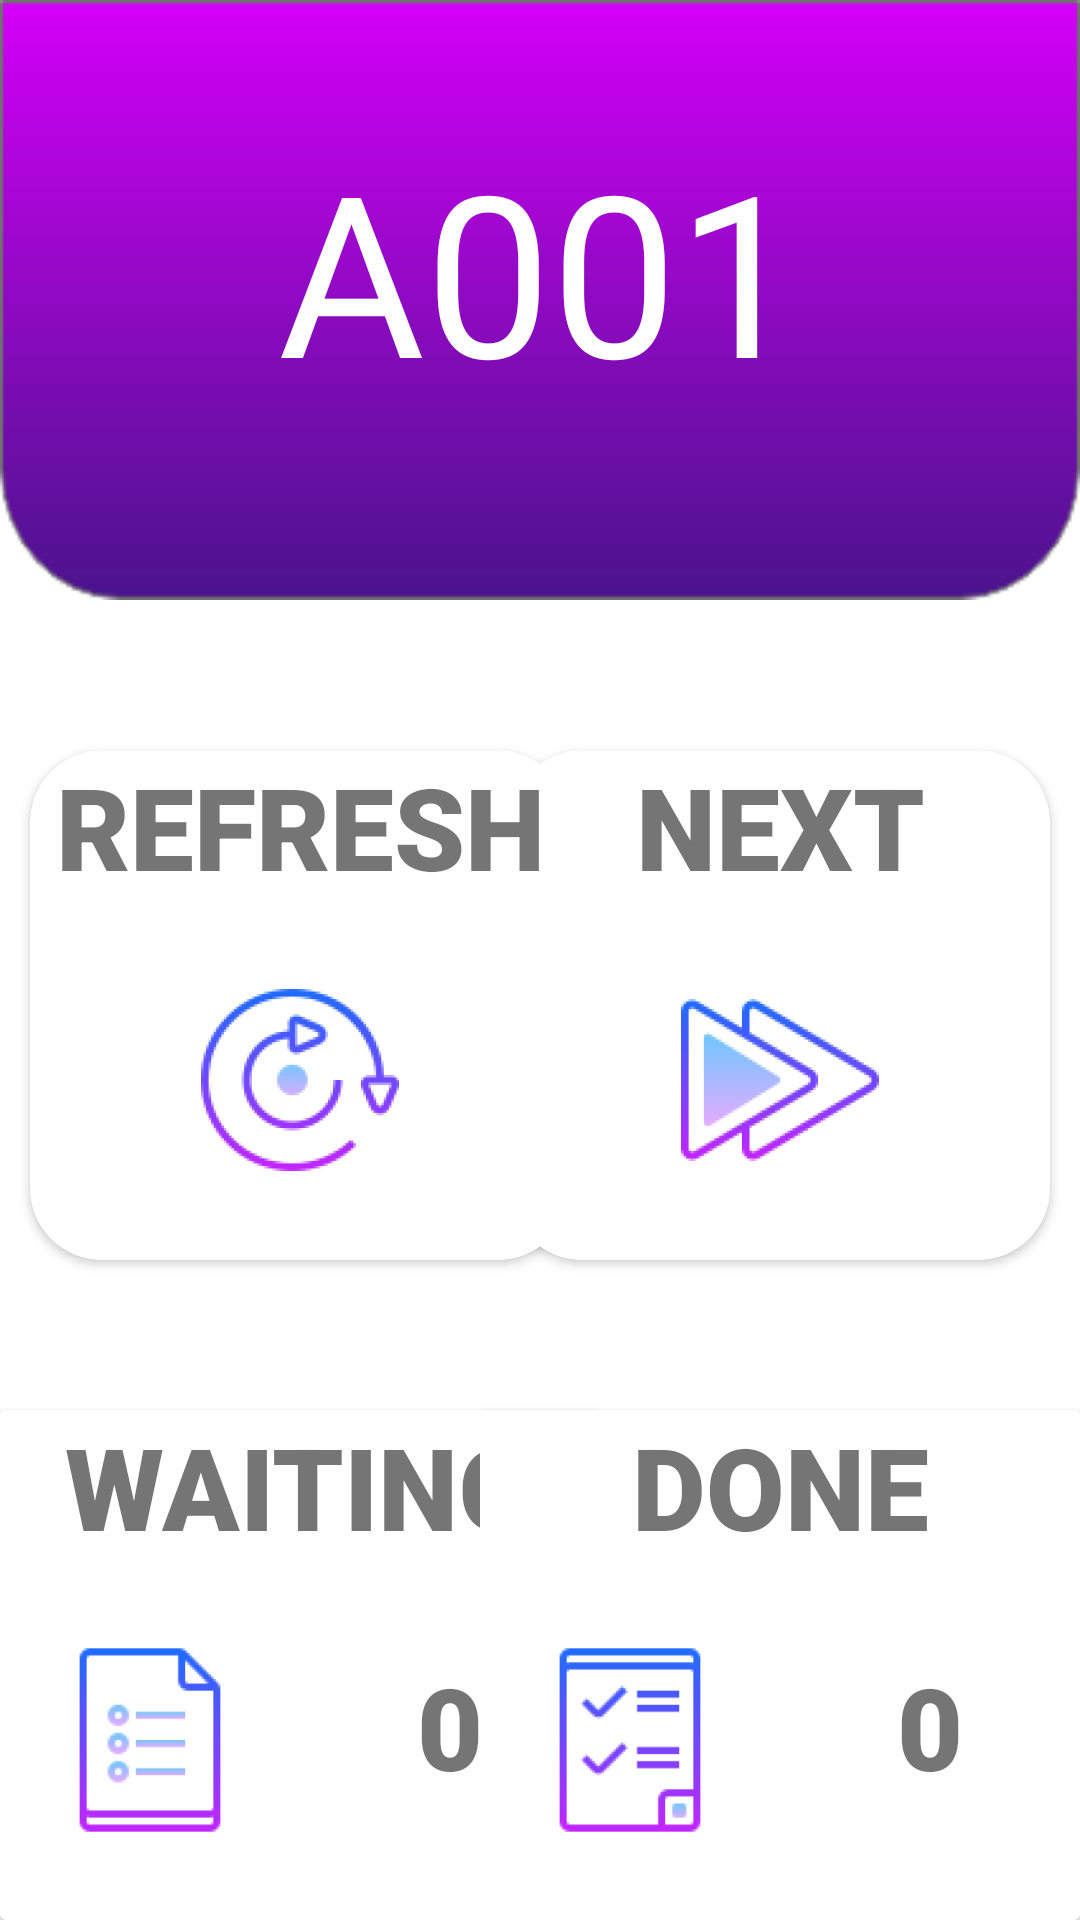

Screen size 1080×1920. Icon name, then its box in pixels as (x1, y1, x2, y2):
ref: (201, 989, 399, 1171)
